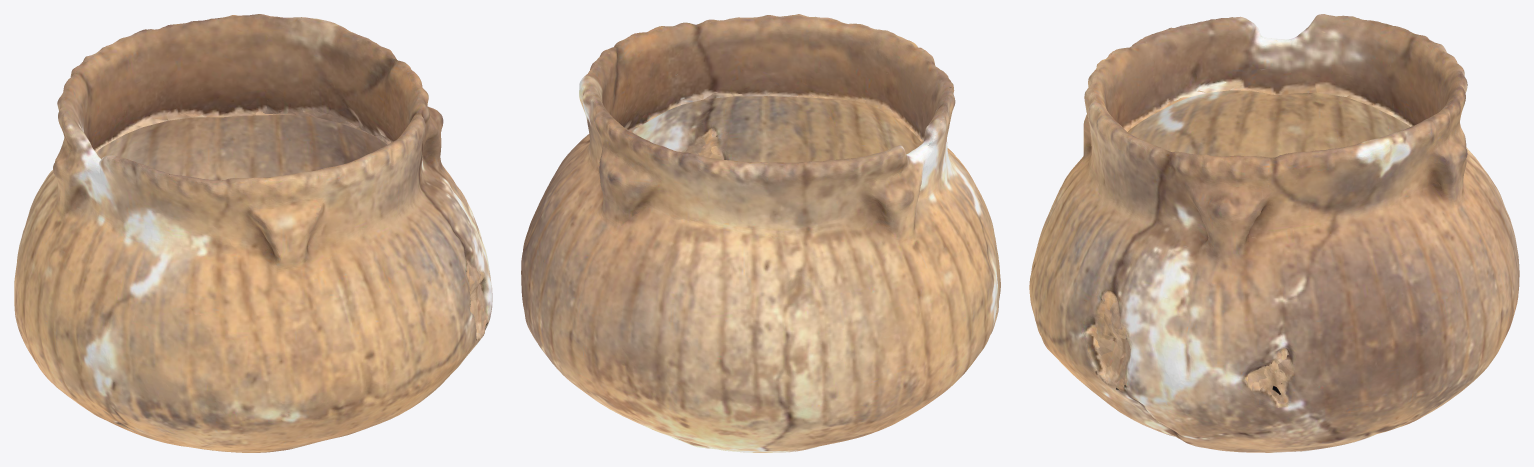
Rendered from Ark_HM_711_HI.glb.
3 views of the same model, side by side, from view 1: azimuth 30°, elevation 25°; view 2: azimuth 150°, elevation 25°; view 3: azimuth 270°, elevation 25° (orthographic). The views are drawn at different scales.
Bounding box in the file's own units: 0.4874 × 0.3881 × 0.4997.
Materials: 1 (1 with a texture image).
